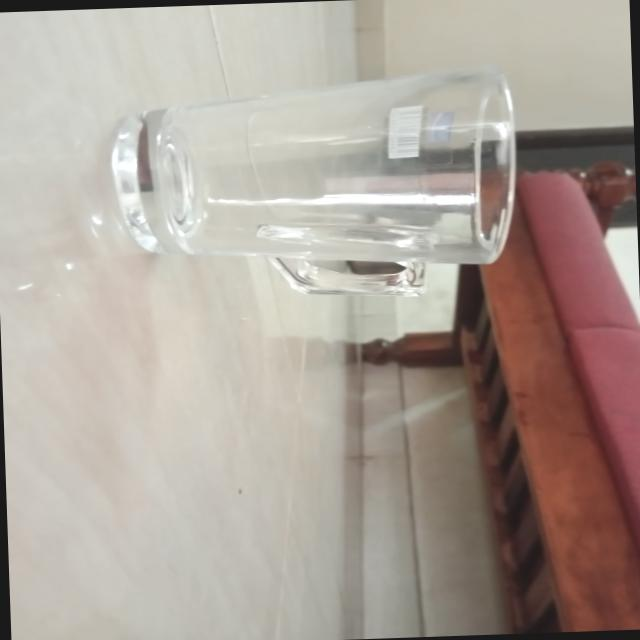glass-VX4N: (84, 61, 528, 306)
